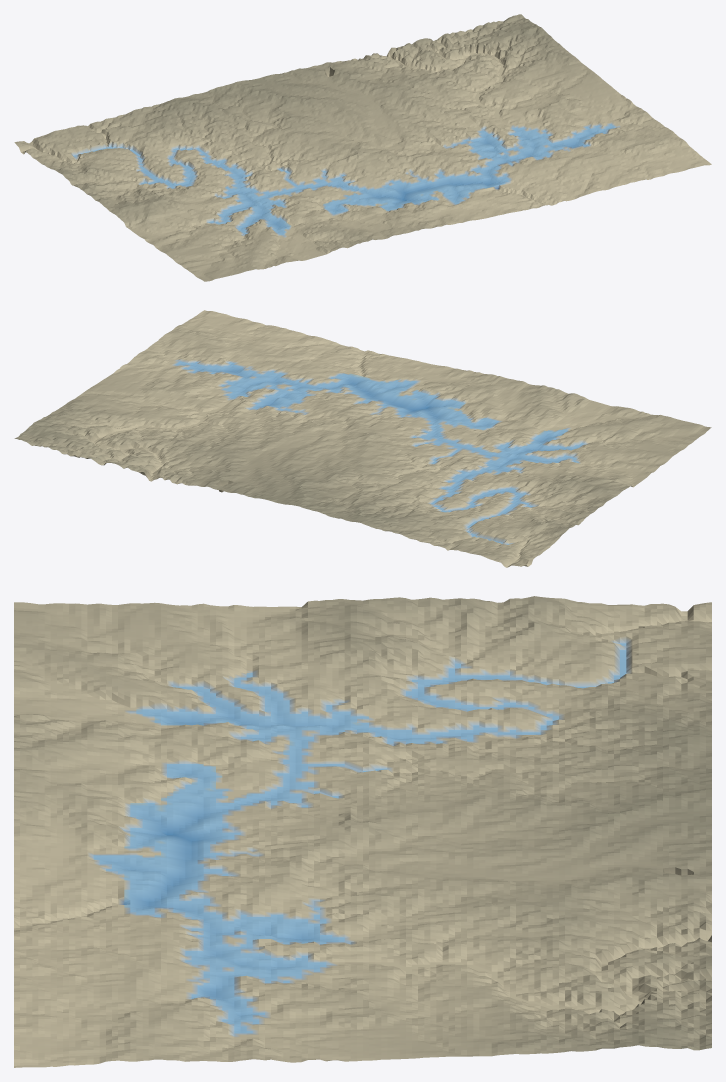
Rendered from lake_amistad_tx.glb.
The picture shows the model from 3 angles, top to bottom: view 1: azimuth 30°, elevation 25°; view 2: azimuth 150°, elevation 25°; view 3: azimuth 270°, elevation 25°; orthographic projection. The views are drawn at different scales.
Visible parts, largest first — view 1: terrain, water; view 2: terrain, water; view 3: terrain, water.
Part boxes in pixels (x1,y1,x2,y2): terrain: (14, 14, 711, 281); water: (74, 124, 615, 235); terrain: (14, 310, 711, 567); water: (176, 361, 583, 544); terrain: (14, 596, 711, 1067); water: (93, 643, 626, 1033).
Size of the model in its own units: 50584 by 1423 by 32889.
